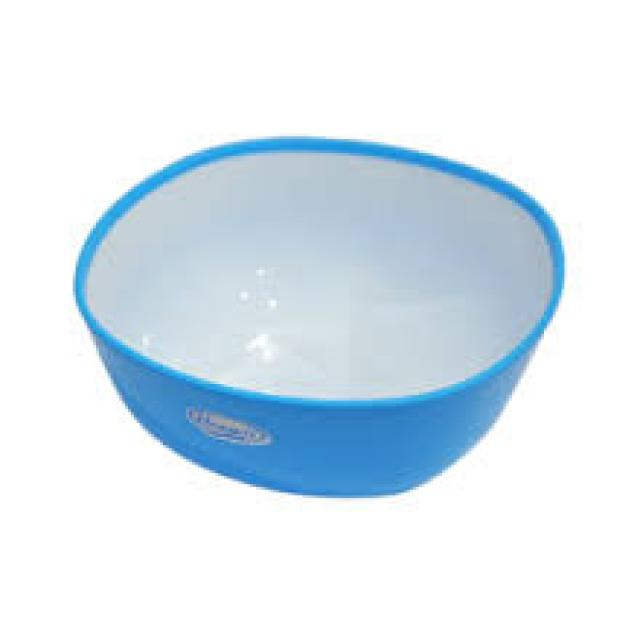Mangkok: (56, 119, 584, 514)
